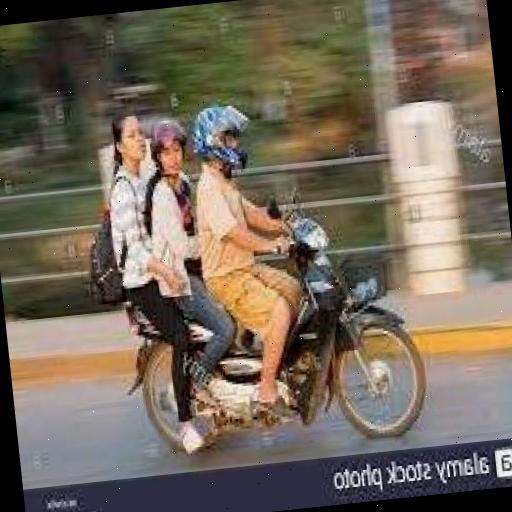helmet: (186, 79, 283, 184)
triple riding: (76, 40, 438, 472)
